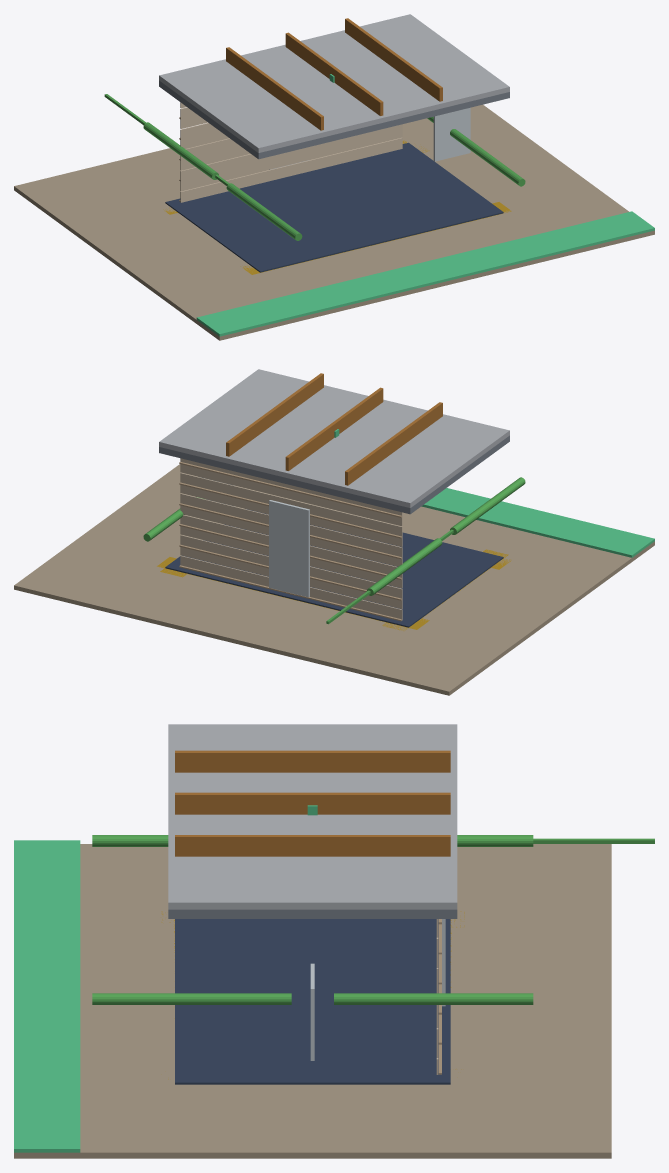
File: stage_12_complete.glb
3 renders of one model, top to bottom at view 1: azimuth 30°, elevation 25°; view 2: azimuth 150°, elevation 25°; view 3: azimuth 270°, elevation 25°, orthographic. The views are drawn at different scales.
Visible parts, largest first — view 1: world; view 2: world; view 3: world.
Part boxes in pixels (x1,y1,x2,y2): world: [14, 14, 654, 340]; world: [14, 369, 654, 695]; world: [14, 724, 654, 1158].
Bounding box in the file's own units: 11 × 4.2 × 9.65.
